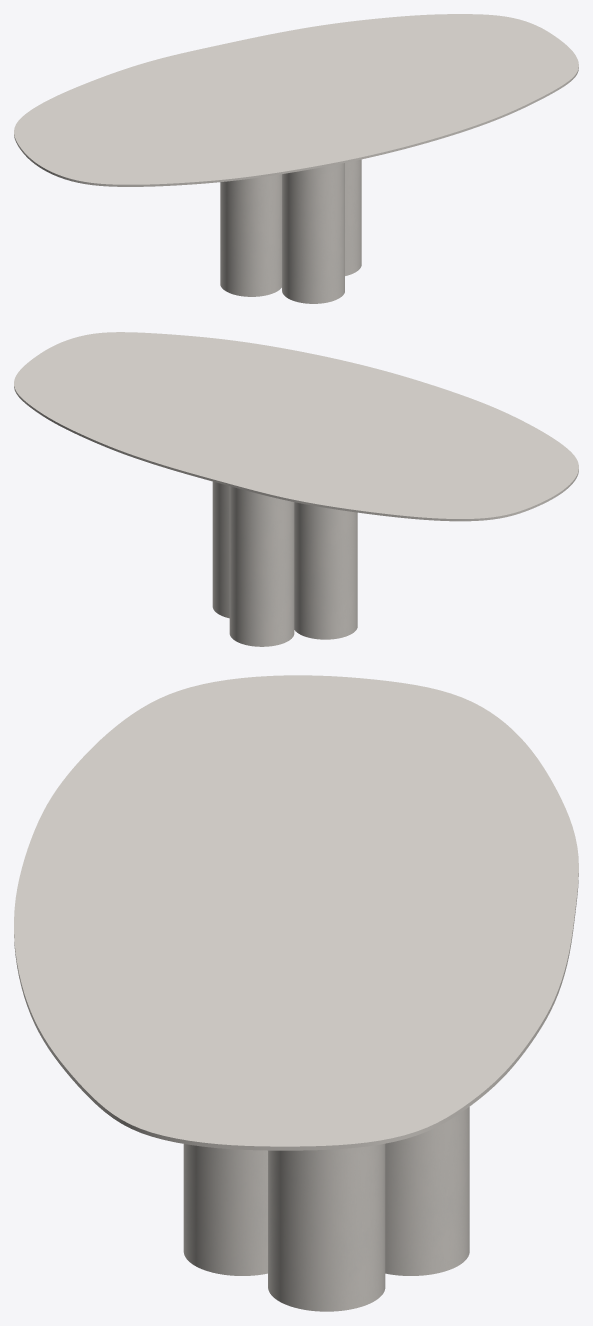
Rendered from pearlwhite_danish_facet_secondtable.glb.
The picture shows the model from 3 angles, top to bottom: view 1: azimuth 30°, elevation 25°; view 2: azimuth 150°, elevation 25°; view 3: azimuth 270°, elevation 25°; orthographic projection. The views are drawn at different scales.
Parts seen in each view (by area): view 1: facet_danish, secondtable; view 2: facet_danish, secondtable; view 3: facet_danish, secondtable.
Part boxes in pixels (box(x1,y1,x2,y2)): facet_danish: box(14, 14, 578, 186); secondtable: box(220, 159, 361, 303); facet_danish: box(14, 332, 578, 521); secondtable: box(212, 481, 357, 646); facet_danish: box(14, 675, 578, 1150); secondtable: box(183, 1107, 469, 1311).
Size of the model in its own units: 7.5 by 2.5 by 3.8.
Materials: 1 (1 with a texture image).
